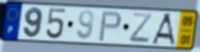5: (46, 7, 68, 41)
9: (22, 6, 44, 40), (75, 10, 96, 42)
A: (151, 13, 177, 47)
P: (97, 11, 123, 43)
Z: (128, 12, 153, 45)
